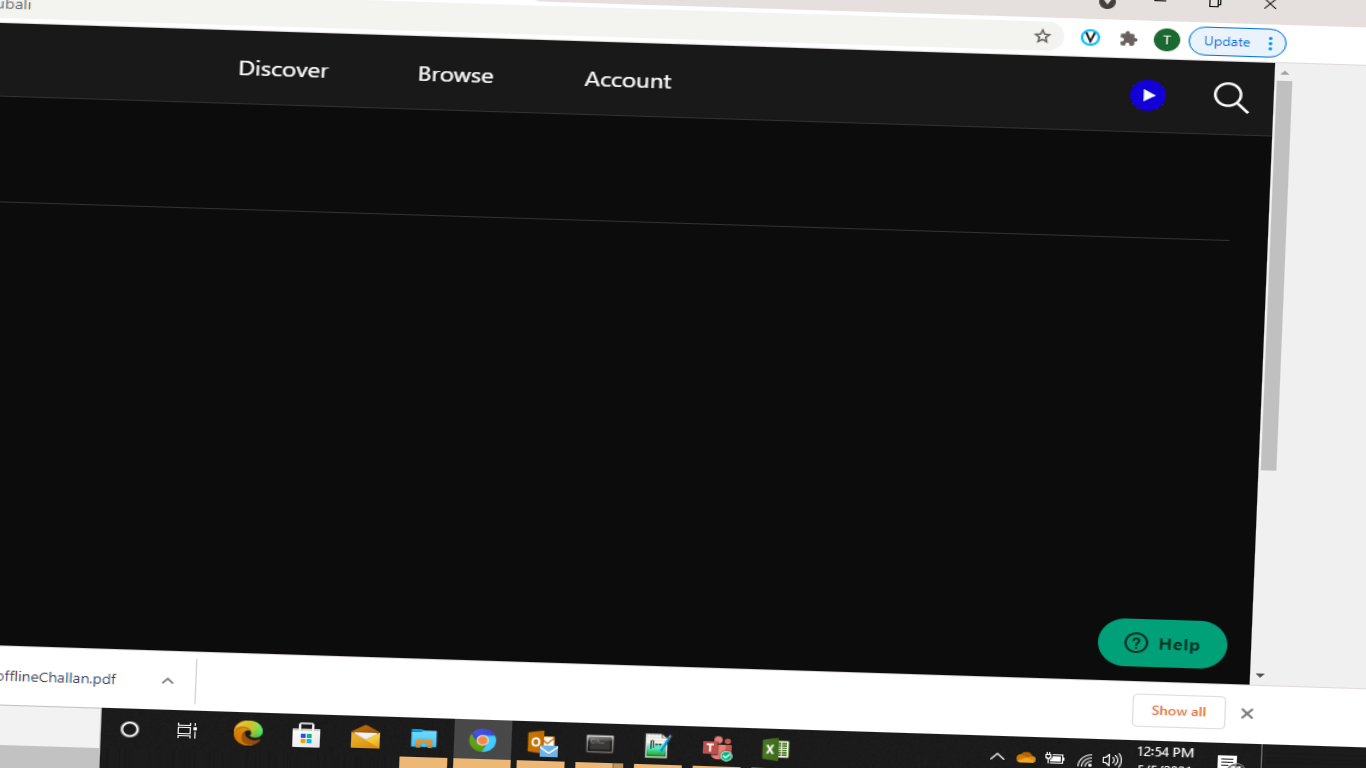myaccountbutton: (571, 44, 690, 108)
searchicon: (1196, 63, 1264, 126)
